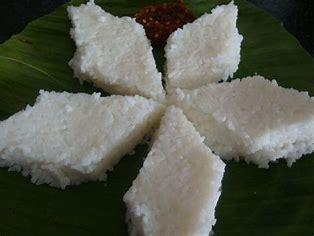Kiribath: (17, 35, 304, 236)
